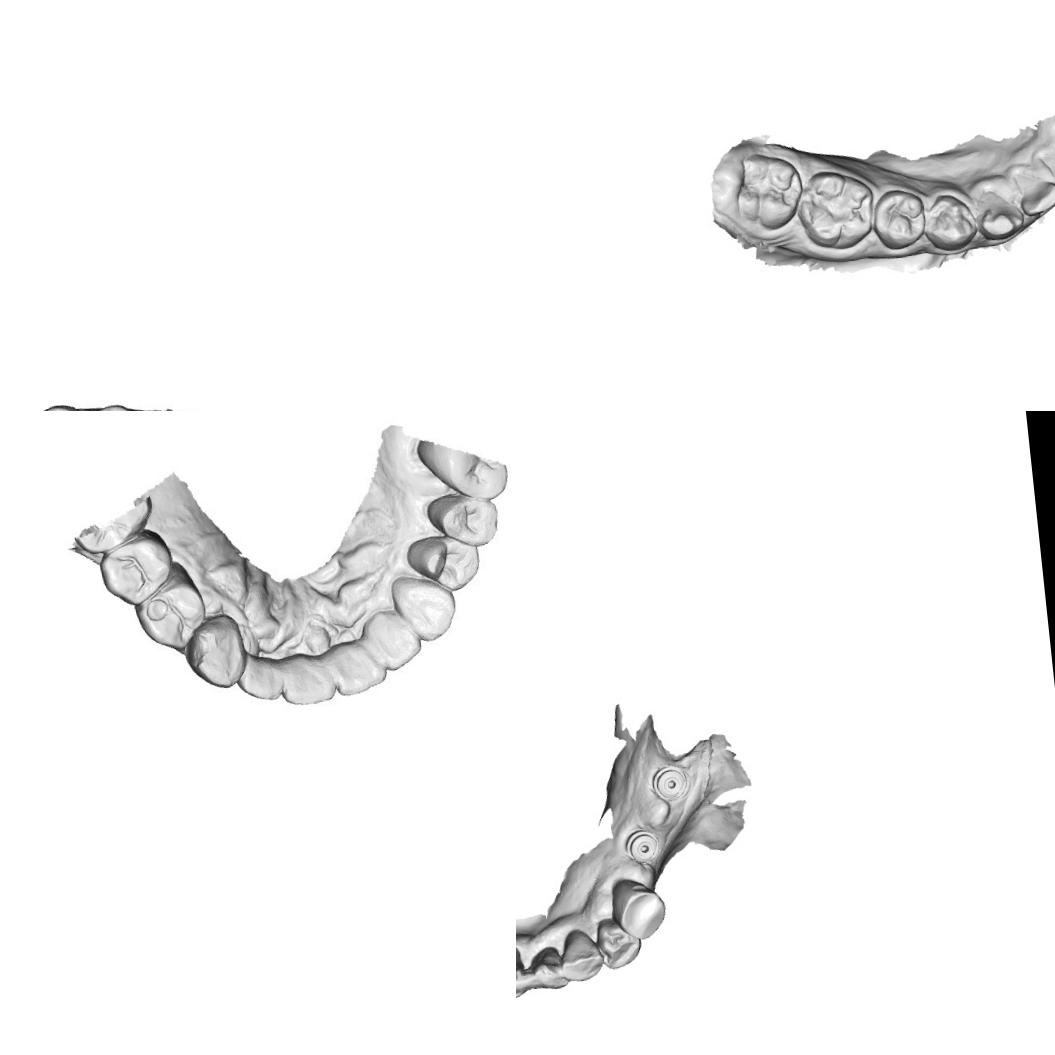canine: (182, 607, 252, 695), (390, 573, 460, 645), (972, 184, 1027, 244), (556, 924, 607, 984)
implant: (648, 762, 691, 803), (622, 827, 662, 868)
incisor: (331, 640, 394, 700), (368, 610, 424, 675), (232, 644, 288, 705), (281, 650, 341, 705), (1014, 161, 1055, 219), (528, 943, 569, 993), (516, 944, 530, 1002)
molar: (793, 164, 880, 256), (729, 147, 808, 235)
premolar: (93, 525, 178, 611), (132, 572, 208, 656), (606, 873, 670, 944), (412, 530, 482, 590), (921, 188, 982, 254), (870, 186, 929, 252), (433, 490, 502, 546), (593, 912, 644, 972)
